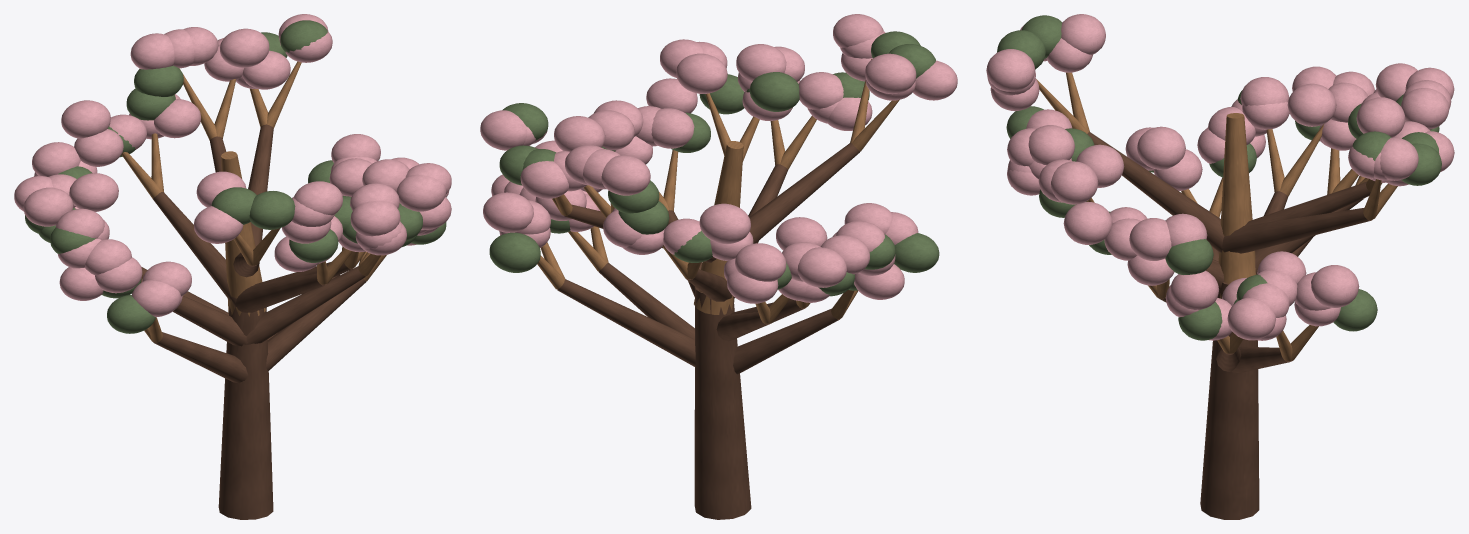
The model's file is BlossomingTree.glb.
The picture shows the model from 3 angles, left to right: view 1: azimuth 30°, elevation 25°; view 2: azimuth 150°, elevation 25°; view 3: azimuth 270°, elevation 25°; orthographic projection. The views are drawn at different scales.
Parts seen in each view (by area): view 1: Trunk, Bough.005, Bough.006, Bough, Bough.004, Bough.002, Leader, Bough.009, Blossom cluster.089, Blossom cluster.075, Blossom cluster.053, Blossom cluster.013 (+49 smaller); view 2: Trunk, Bough.008, Bough.007, Bough.004, Leader, Bough, Blossom cluster.085, Blossom cluster.068, Blossom cluster.053, Blossom cluster.057, Blossom cluster.069, Blossom cluster.080 (+53 smaller); view 3: Trunk, Leader, Bough.003, Bough.007, Blossom cluster.075, Blossom cluster.061, Bough.011, Blossom cluster.039, Blossom cluster.043, Blossom cluster.069, Blossom cluster.087, Blossom cluster.067 (+47 smaller).
Part boxes in pixels (left/top/right/bottom): Trunk: left=218, top=306, right=273, bottom=519; Bough.005: left=245, top=266, right=365, bottom=344; Bough.006: left=153, top=192, right=236, bottom=307; Bough: left=266, top=279, right=365, bottom=370; Bough.004: left=153, top=332, right=248, bottom=383; Bough.002: left=235, top=273, right=326, bottom=312; Leader: left=221, top=151, right=265, bottom=316; Bough.009: left=141, top=278, right=247, bottom=346; Blossom cluster.089: left=220, top=28, right=269, bottom=67; Blossom cluster.075: left=69, top=173, right=118, bottom=211; Blossom cluster.053: left=61, top=100, right=110, bottom=138; Blossom cluster.013: left=23, top=187, right=73, bottom=226; Trunk: left=694, top=286, right=751, bottom=519; Bough.008: left=557, top=279, right=695, bottom=366; Bough.007: left=749, top=143, right=859, bottom=243; Bough.004: left=733, top=308, right=839, bottom=374; Leader: left=694, top=141, right=743, bottom=314; Bough: left=599, top=263, right=694, bottom=339; Blossom cluster.085: left=676, top=53, right=727, bottom=93; Blossom cluster.068: left=489, top=232, right=540, bottom=272; Blossom cluster.053: left=699, top=203, right=750, bottom=243; Blossom cluster.057: left=865, top=53, right=916, bottom=94; Blossom cluster.069: left=483, top=192, right=533, bottom=232; Blossom cluster.080: left=749, top=72, right=799, bottom=111; Trunk: left=1200, top=282, right=1259, bottom=519; Leader: left=1218, top=113, right=1256, bottom=298; Bough.003: left=1221, top=208, right=1372, bottom=253; Bough.007: left=1087, top=132, right=1224, bottom=252; Blossom cluster.075: left=1287, top=83, right=1336, bottom=126; Blossom cluster.061: left=986, top=49, right=1035, bottom=91; Bough.011: left=1245, top=181, right=1370, bottom=225; Blossom cluster.039: left=1137, top=126, right=1185, bottom=169; Blossom cluster.043: left=1063, top=202, right=1112, bottom=244; Blossom cluster.069: left=1311, top=265, right=1359, bottom=307; Blossom cluster.087: left=1051, top=161, right=1098, bottom=204; Blossom cluster.067: left=1227, top=297, right=1275, bottom=340.
Bounding box in the file's own units: 4.37 × 4.39 × 4.2.
4 materials, 4 textured.
